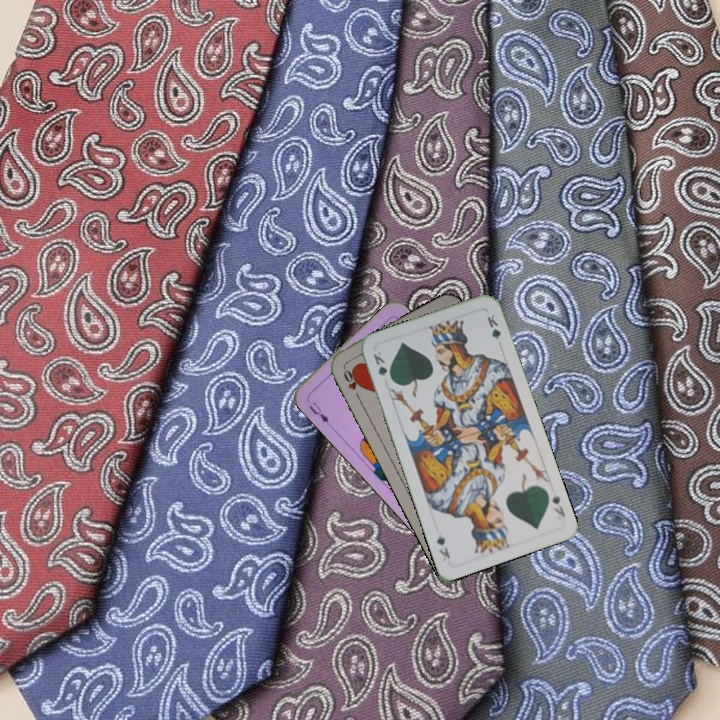EU: (305, 398, 332, 426)
GK: (369, 347, 395, 384), (548, 491, 568, 519)
HO: (339, 363, 364, 401)
